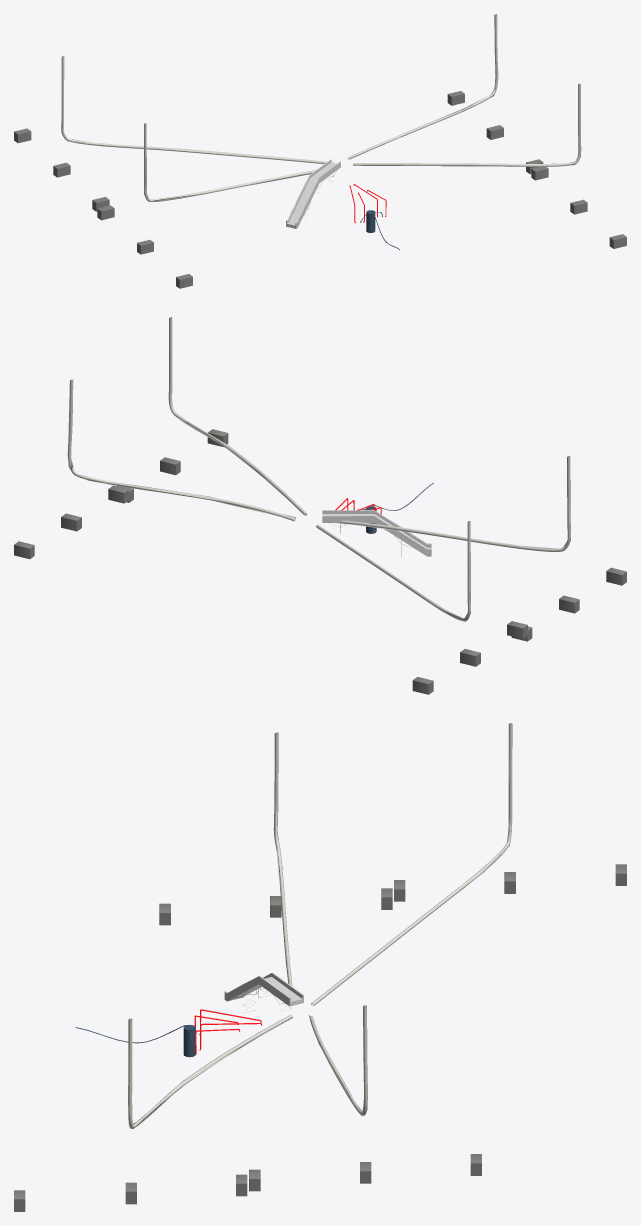
File: STEMP_Station_5.glb
The picture shows the model from 3 angles, top to bottom: view 1: azimuth 30°, elevation 25°; view 2: azimuth 150°, elevation 25°; view 3: azimuth 270°, elevation 25°; orthographic projection. The views are drawn at different scales.
Visible parts, largest first — view 1: Mirror_Bases_5, Pipes-Mirrors-to-Tank-Insulation_5E, Pipes-Mirrors-to-Tank-Insulation_5W.002, Pipes-Mirrors-to-Tank-Insulation_5W.001, Gangway-colonly.004, Pipes-Mirrors-to-Tank-Insulation_5W, Pipes-Mirrors-to-Tank-Insulation_5E.001, Pipes-Mirrors-to-Tank-Insulation_5E.002; view 2: Mirror_Bases_5, Gangway-colonly.004, Pipes-Mirrors-to-Tank-Insulation_5W, Pipes-Mirrors-to-Tank-Insulation_5E.002, Pipes-Mirrors-to-Tank-Insulation_5W.001, Pipes-Mirrors-to-Tank-Insulation_5E.001, Pipes-Mirrors-to-Tank-Insulation_5E, Pipes-Mirrors-to-Tank-Insulation_5W.002; view 3: Mirror_Bases_5, Pipes-Mirrors-to-Tank-Insulation_5W, Pipes-Mirrors-to-Tank-Insulation_5E.001, Gangway-colonly.004, Pipes-Mirrors-to-Tank-Insulation_5E.002, Pipes-Mirrors-to-Tank-Insulation_5W.001, Pipes-Mirrors-to-Tank-Insulation_5E, Pipes-Mirrors-to-Tank-Insulation_5W.002.
Part boxes in pixels (x1,y1,x2,y2): Mirror_Bases_5: [14, 91, 626, 288]; Pipes-Mirrors-to-Tank-Insulation_5E: [350, 14, 581, 166]; Pipes-Mirrors-to-Tank-Insulation_5W.002: [61, 56, 325, 201]; Pipes-Mirrors-to-Tank-Insulation_5W.001: [61, 61, 326, 201]; Gangway-colonly.004: [286, 159, 340, 228]; Pipes-Mirrors-to-Tank-Insulation_5W: [61, 56, 325, 201]; Pipes-Mirrors-to-Tank-Insulation_5E.001: [347, 14, 581, 166]; Pipes-Mirrors-to-Tank-Insulation_5E.002: [348, 14, 580, 166]; Mirror_Bases_5: [14, 429, 626, 694]; Gangway-colonly.004: [322, 510, 431, 556]; Pipes-Mirrors-to-Tank-Insulation_5W: [316, 456, 570, 621]; Pipes-Mirrors-to-Tank-Insulation_5E.002: [68, 317, 306, 520]; Pipes-Mirrors-to-Tank-Insulation_5W.001: [316, 456, 570, 620]; Pipes-Mirrors-to-Tank-Insulation_5E.001: [67, 317, 307, 521]; Pipes-Mirrors-to-Tank-Insulation_5E: [67, 317, 306, 521]; Pipes-Mirrors-to-Tank-Insulation_5W.002: [316, 456, 570, 621]; Mirror_Bases_5: [14, 864, 626, 1211]; Pipes-Mirrors-to-Tank-Insulation_5W: [273, 724, 512, 1005]; Pipes-Mirrors-to-Tank-Insulation_5E.001: [128, 1005, 367, 1128]; Gangway-colonly.004: [224, 972, 303, 1006]; Pipes-Mirrors-to-Tank-Insulation_5E.002: [128, 1005, 367, 1128]; Pipes-Mirrors-to-Tank-Insulation_5W.001: [274, 723, 512, 1006]; Pipes-Mirrors-to-Tank-Insulation_5E: [128, 1005, 367, 1128]; Pipes-Mirrors-to-Tank-Insulation_5W.002: [274, 723, 512, 1005].
Bounding box in the file's own units: 131 × 48.89 × 124.
